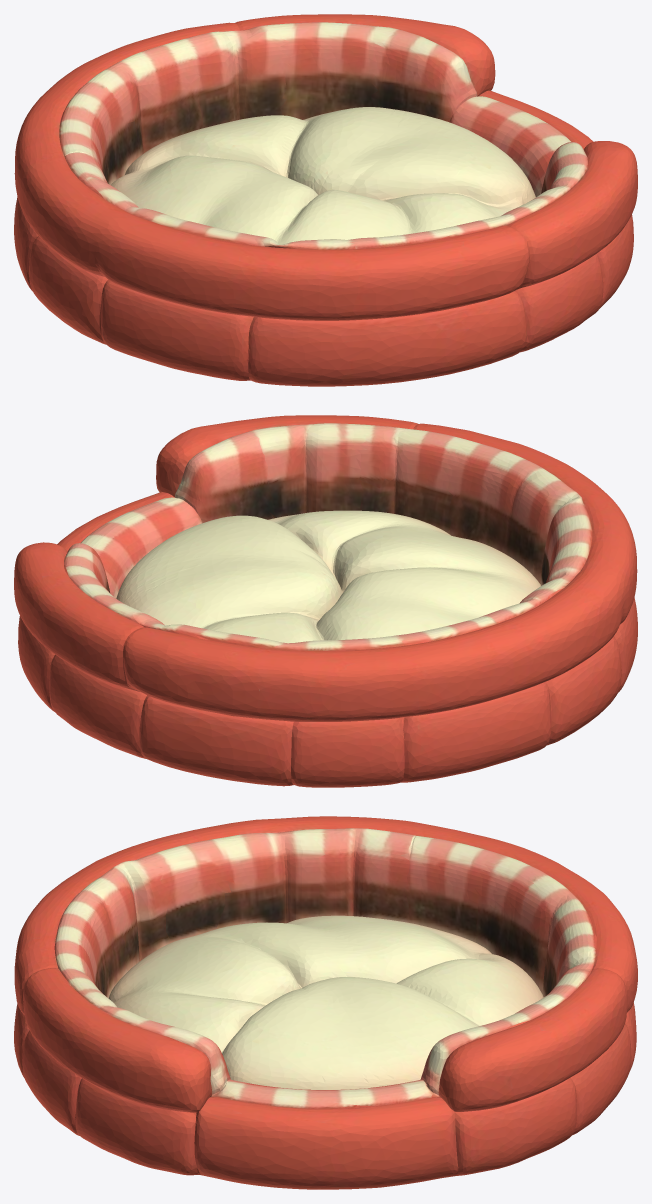
File: DOM_mat_1__third.glb
The picture shows the model from 3 angles, top to bottom: view 1: azimuth 30°, elevation 25°; view 2: azimuth 150°, elevation 25°; view 3: azimuth 270°, elevation 25°; orthographic projection.
Visible parts, largest first — view 1: tripo_node_7c25abf4-57d2-4e9c-9704-779cff4a1aa6; view 2: tripo_node_7c25abf4-57d2-4e9c-9704-779cff4a1aa6; view 3: tripo_node_7c25abf4-57d2-4e9c-9704-779cff4a1aa6.
Part boxes in pixels (x1,y1,x2,y2): tripo_node_7c25abf4-57d2-4e9c-9704-779cff4a1aa6: (14,14,637,386); tripo_node_7c25abf4-57d2-4e9c-9704-779cff4a1aa6: (14,415,637,787); tripo_node_7c25abf4-57d2-4e9c-9704-779cff4a1aa6: (14,816,637,1189).
Bounding box in the file's own units: 0.9761 × 0.2403 × 0.9796.
Materials: 1 (1 with a texture image).
